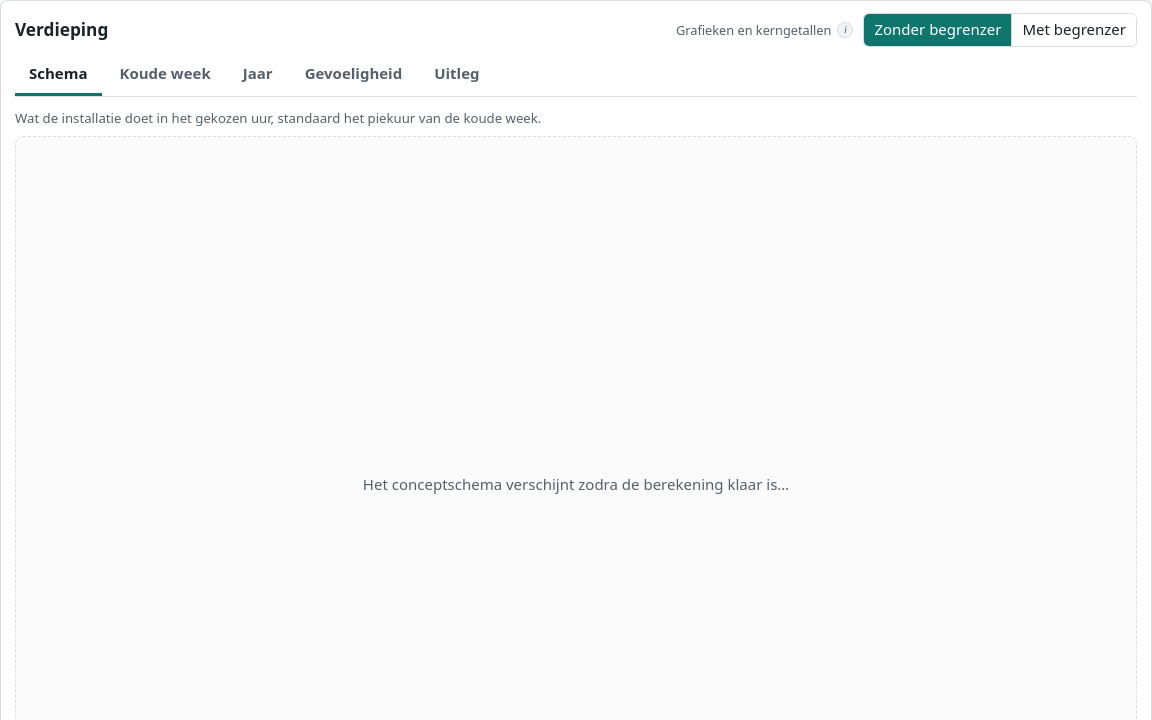
it: Verdieping: opbouw › een klik op een tabblad toont dat paneel
Click the tab "Jaar". click: [258, 75]
box: [229,55,287,96]
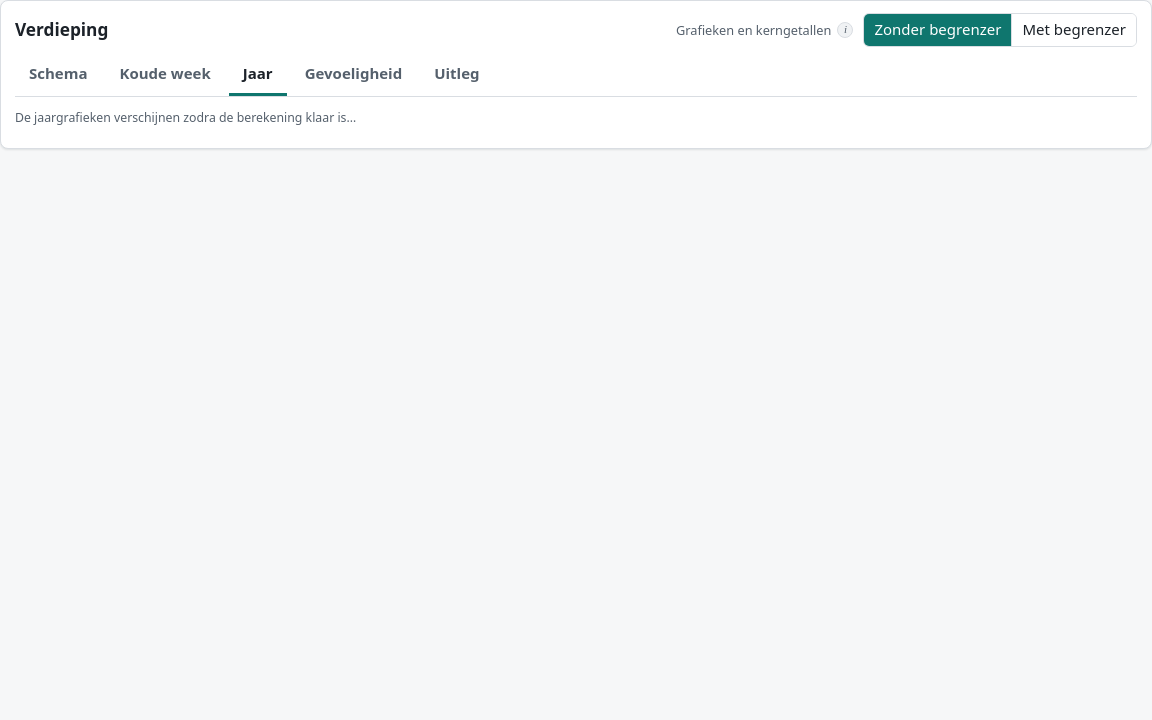
Expected: the text "De jaargrafieken verschijnen zodra de berekening klaar is…" is shown, [15,108,356,126]
Click the tab "Koude week". click: [165, 75]
box: [106,55,225,96]
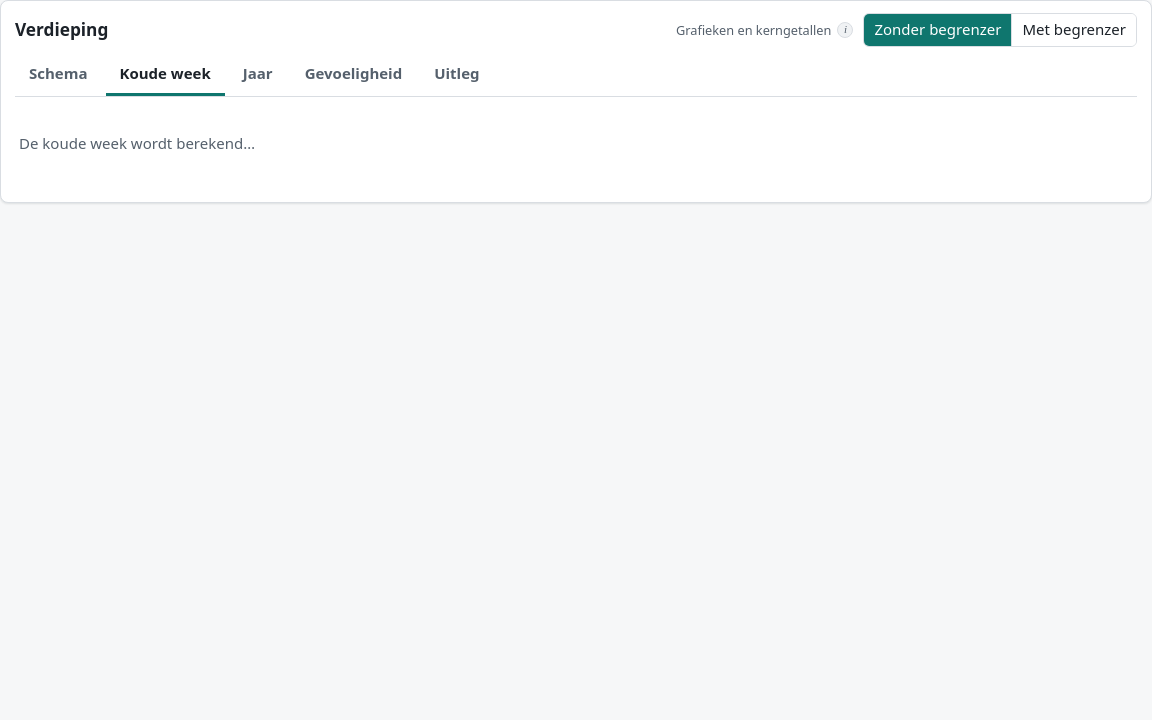
Expected: the text "De koude week wordt berekend…" is shown, [19,132,255,152]
